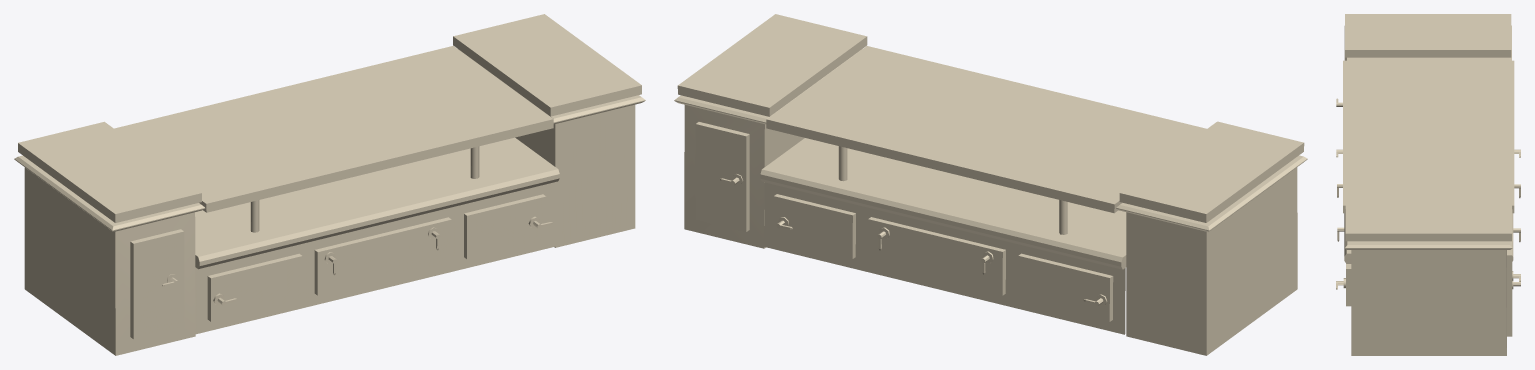
Rendered from MesaCentral.fbx.
3 renders of one model, left to right at view 1: azimuth 30°, elevation 25°; view 2: azimuth 150°, elevation 25°; view 3: azimuth 270°, elevation 25°, orthographic. The views are drawn at different scales.
Parts seen in each view (by area): view 1: vox; view 2: vox; view 3: vox.
Part boxes in pixels (x1,y1,x2,y2): vox: [14, 14, 645, 355]; vox: [674, 14, 1307, 355]; vox: [1336, 14, 1520, 355].
Bounding box in the file's own units: 95.86 × 24.87 × 33.7.
